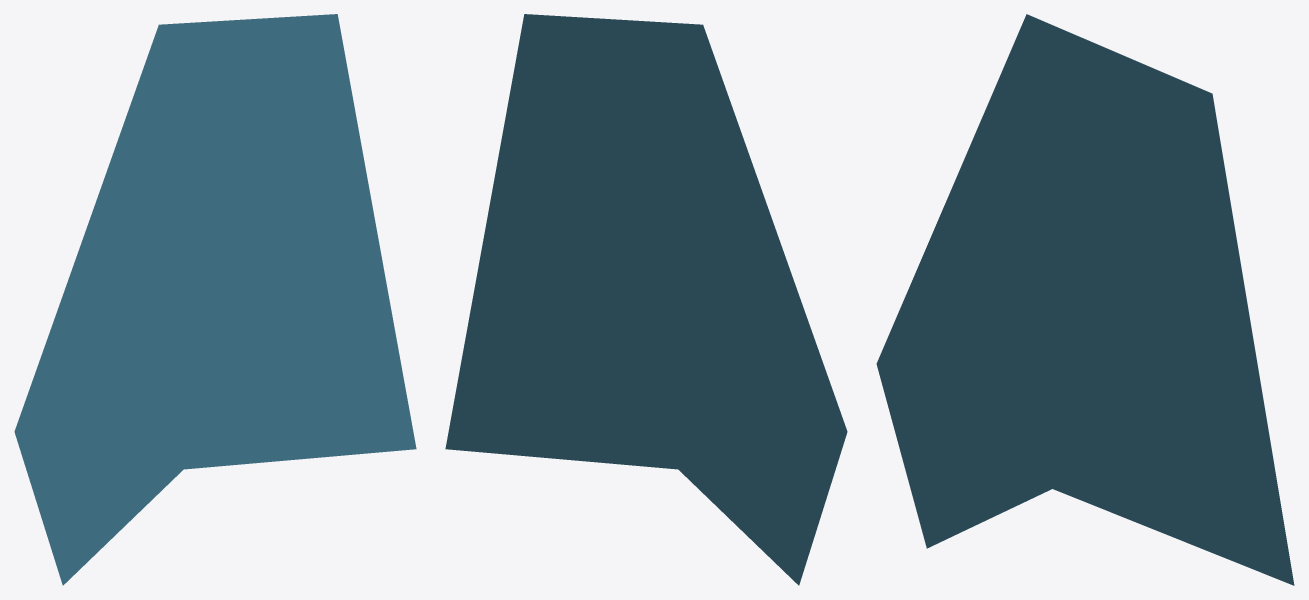
File: NexusA_Cloth_15.fbx
The picture shows the model from 3 angles, left to right: view 1: azimuth 30°, elevation 25°; view 2: azimuth 150°, elevation 25°; view 3: azimuth 330°, elevation 25°; orthographic projection. The views are drawn at different scales.
Parts seen in each view (by area): view 1: pasted__polySurface64; view 2: pasted__polySurface64; view 3: pasted__polySurface64.
Boxes of the visible parts, box(x1,y1,x2,y2) form: pasted__polySurface64: box(14, 14, 416, 585); pasted__polySurface64: box(445, 14, 847, 585); pasted__polySurface64: box(876, 14, 1294, 585).
Size of the model in its own units: 40.58 by 51.87 by 0.
